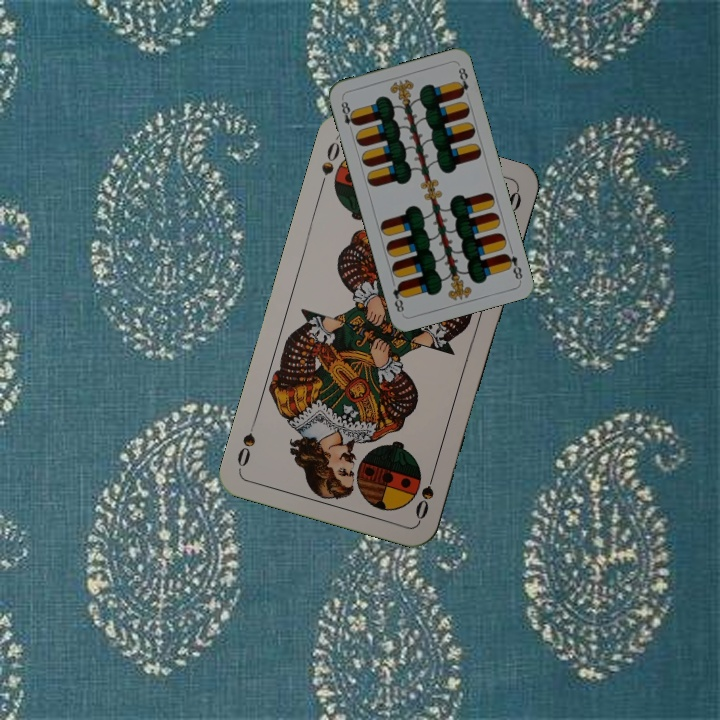E8: (501, 249, 525, 282), (337, 95, 359, 128)
SO: (411, 465, 439, 523), (315, 135, 343, 192)
